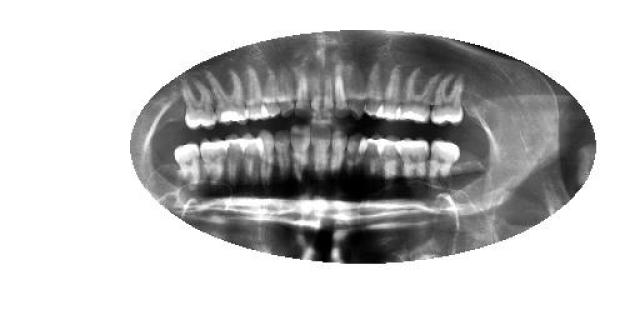Fillings: (396, 68, 442, 124), (208, 72, 246, 126)
